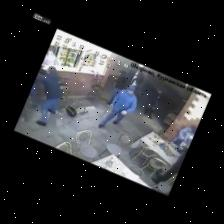person: (99, 86, 137, 128), (37, 67, 61, 126), (152, 149, 187, 184), (107, 71, 126, 105), (144, 90, 162, 119), (42, 50, 58, 65)
